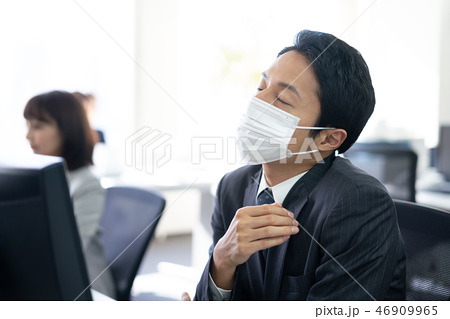mask: (232, 98, 303, 168)
